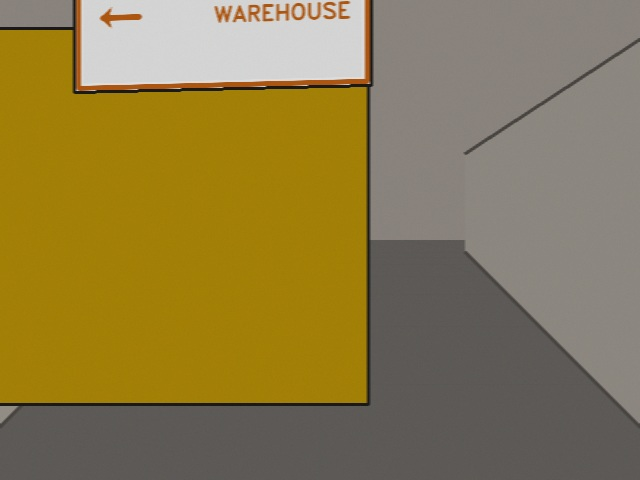directional_sign: (74, 0, 371, 92)
forklift: (0, 0, 368, 404)
